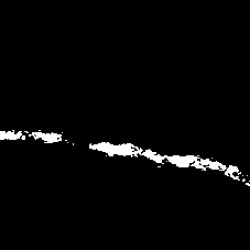crack: (92, 143, 248, 183), (30, 131, 61, 144), (2, 130, 26, 140)
